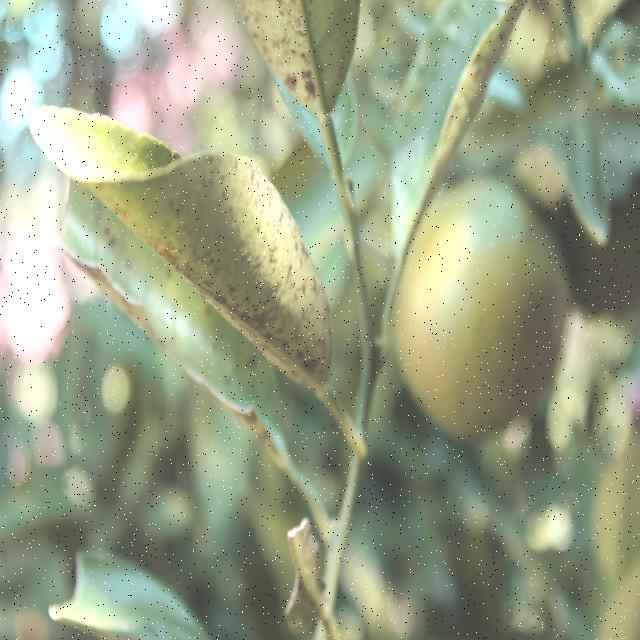melanose: (36, 95, 340, 434), (228, 0, 365, 110)
